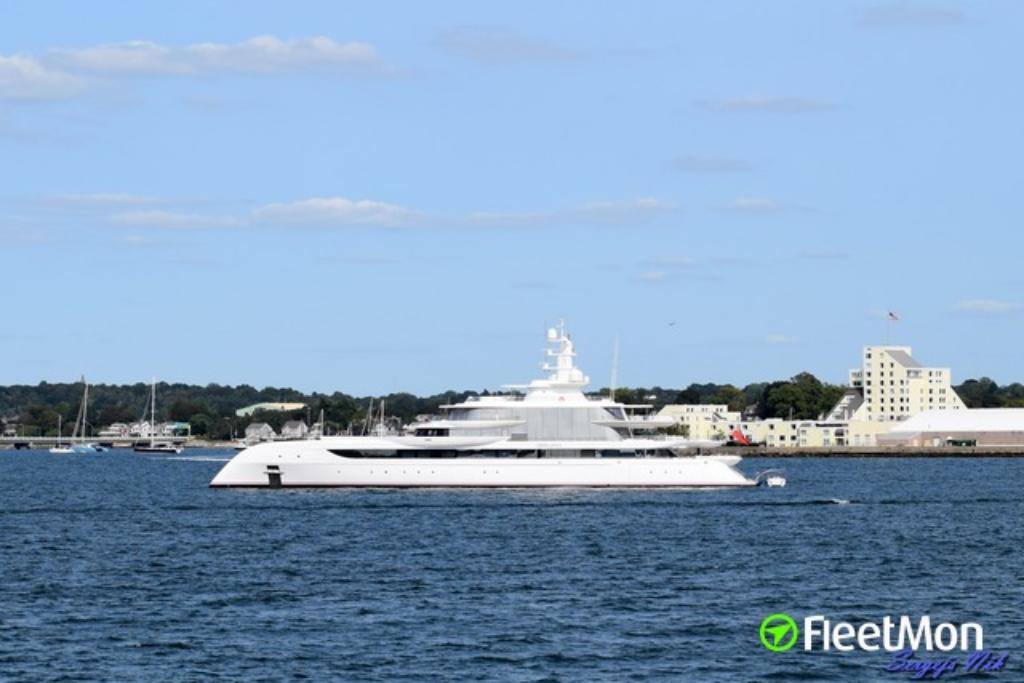PassengerShip: (210, 316, 786, 487)
